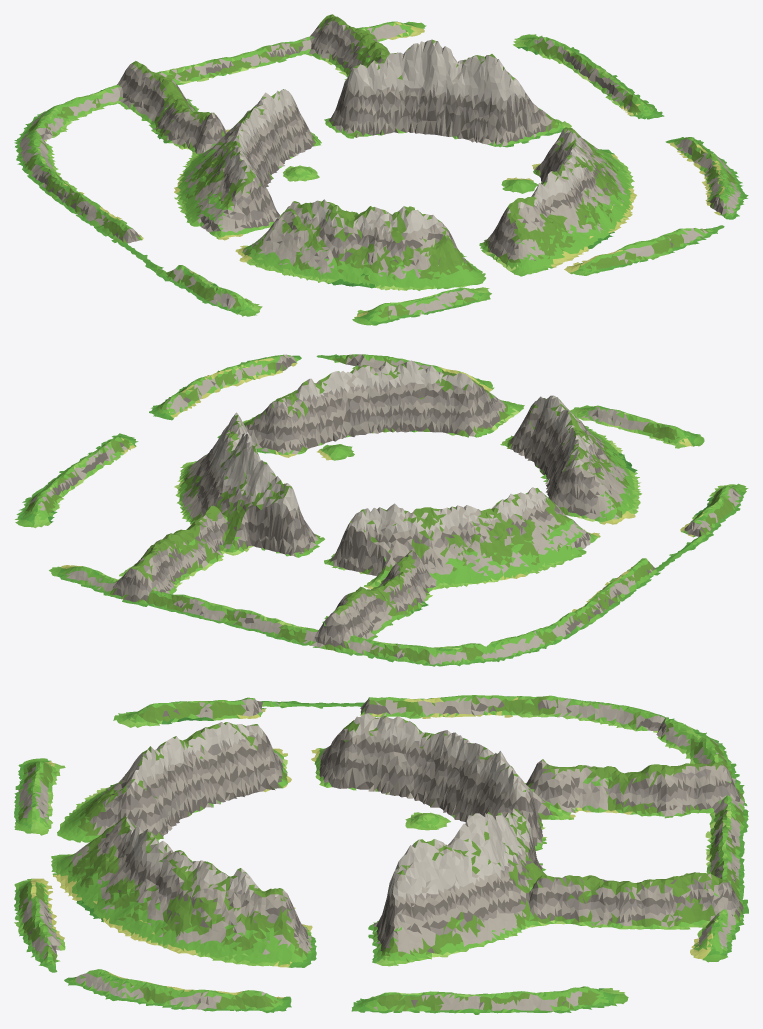
File: Map-5-Relief.fbx
3 views of the same model, one above another, from view 1: azimuth 30°, elevation 25°; view 2: azimuth 150°, elevation 25°; view 3: azimuth 270°, elevation 25° (orthographic). The views are drawn at different scales.
Visible parts, largest first — view 1: Map-5-Relief-c22, Map-5-Relief-c20, Map-5-Relief-c10, Map-5-Relief-c12, Map-5-Relief-c01, Map-5-Relief-c13, Map-5-Relief-c11, Map-5-Relief-c23, Map-5-Relief-c02, Map-5-Relief-c32, Map-5-Relief-c21, Map-5-Relief-c31 (+4 smaller); view 2: Map-5-Relief-c12, Map-5-Relief-c22, Map-5-Relief-c21, Map-5-Relief-c23, Map-5-Relief-c13, Map-5-Relief-c20, Map-5-Relief-c01, Map-5-Relief-c02, Map-5-Relief-c11, Map-5-Relief-c10, Map-5-Relief-c03, Map-5-Relief-c32 (+4 smaller); view 3: Map-5-Relief-c22, Map-5-Relief-c12, Map-5-Relief-c20, Map-5-Relief-c11, Map-5-Relief-c23, Map-5-Relief-c31, Map-5-Relief-c13, Map-5-Relief-c10, Map-5-Relief-c32, Map-5-Relief-c21, Map-5-Relief-c02, Map-5-Relief-c03 (+4 smaller).
Part boxes in pixels (x1=…): Map-5-Relief-c22: x1=324, y1=39, x2=533, y2=146; Map-5-Relief-c20: x1=479, y1=163, x2=683, y2=276; Map-5-Relief-c10: x1=318, y1=206, x2=517, y2=323; Map-5-Relief-c12: x1=163, y1=89, x2=321, y2=189; Map-5-Relief-c01: x1=111, y1=175, x2=317, y2=303; Map-5-Relief-c13: x1=84, y1=57, x2=240, y2=141; Map-5-Relief-c11: x1=230, y1=159, x2=373, y2=270; Map-5-Relief-c23: x1=233, y1=14, x2=397, y2=80; Map-5-Relief-c02: x1=27, y1=162, x2=229, y2=239; Map-5-Relief-c32: x1=527, y1=37, x2=654, y2=137; Map-5-Relief-c21: x1=499, y1=127, x2=621, y2=195; Map-5-Relief-c31: x1=534, y1=103, x2=737, y2=198; Map-5-Relief-c12: x1=324, y1=492, x2=536, y2=606; Map-5-Relief-c22: x1=180, y1=412, x2=324, y2=557; Map-5-Relief-c21: x1=257, y1=365, x2=422, y2=460; Map-5-Relief-c23: x1=77, y1=521, x2=234, y2=623; Map-5-Relief-c13: x1=225, y1=574, x2=424, y2=659; Map-5-Relief-c20: x1=368, y1=355, x2=524, y2=437; Map-5-Relief-c01: x1=537, y1=470, x2=740, y2=575; Map-5-Relief-c02: x1=488, y1=510, x2=653, y2=639; Map-5-Relief-c11: x1=524, y1=411, x2=625, y2=516; Map-5-Relief-c10: x1=483, y1=395, x2=691, y2=475; Map-5-Relief-c03: x1=383, y1=626, x2=562, y2=666; Map-5-Relief-c32: x1=22, y1=437, x2=211, y2=514; Map-5-Relief-c22: x1=376, y1=808, x2=584, y2=942; Map-5-Relief-c12: x1=376, y1=715, x2=583, y2=850; Map-5-Relief-c20: x1=14, y1=816, x2=172, y2=942; Map-5-Relief-c11: x1=170, y1=713, x2=378, y2=826; Map-5-Relief-c23: x1=582, y1=845, x2=748, y2=942; Map-5-Relief-c31: x1=170, y1=900, x2=378, y2=1012; Map-5-Relief-c13: x1=582, y1=758, x2=748, y2=856; Map-5-Relief-c10: x1=14, y1=737, x2=172, y2=855; Map-5-Relief-c32: x1=376, y1=896, x2=584, y2=1014; Map-5-Relief-c21: x1=170, y1=850, x2=377, y2=942; Map-5-Relief-c02: x1=376, y1=695, x2=583, y2=720; Map-5-Relief-c03: x1=582, y1=701, x2=736, y2=769.
Size of the model in its own units: 180 by 25.73 by 179.
